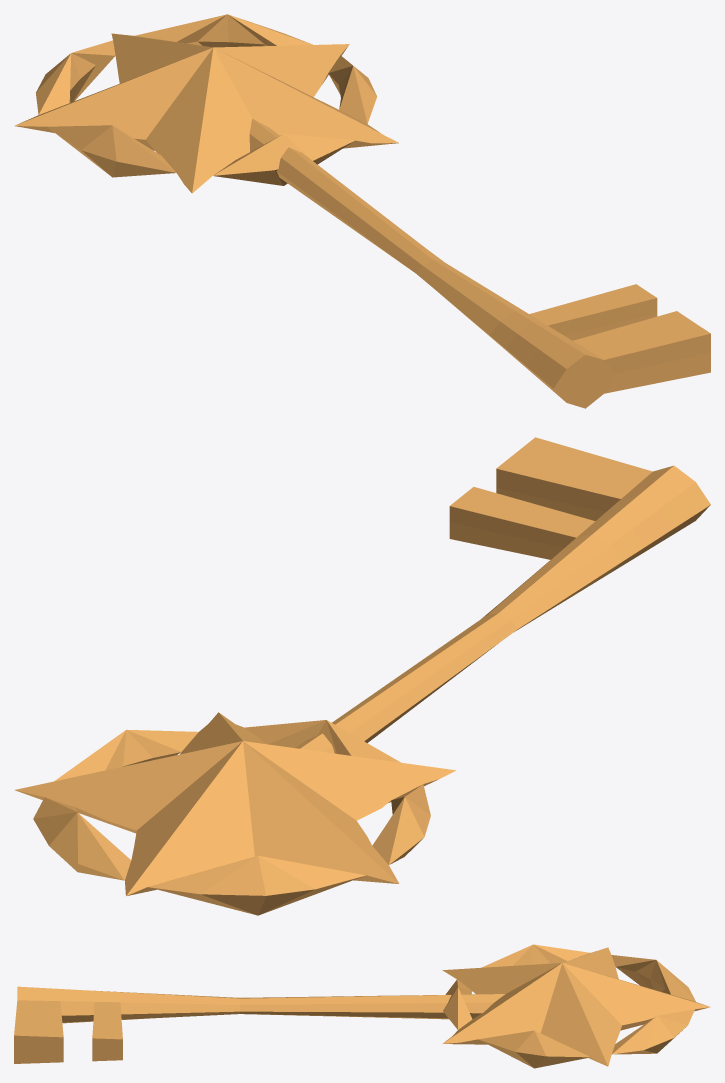
The model's file is KeyStar.fbx.
The picture shows the model from 3 angles, top to bottom: view 1: azimuth 30°, elevation 25°; view 2: azimuth 150°, elevation 25°; view 3: azimuth 270°, elevation 25°; orthographic projection. The views are drawn at different scales.
Visible parts, largest first — view 1: Key; view 2: Key; view 3: Key.
Boxes of the visible parts, x1,y1,x2,y2 form: Key: (14, 14, 710, 408); Key: (14, 437, 710, 915); Key: (14, 944, 710, 1068).
Bounding box in the file's own units: 177 × 57.16 × 435.
